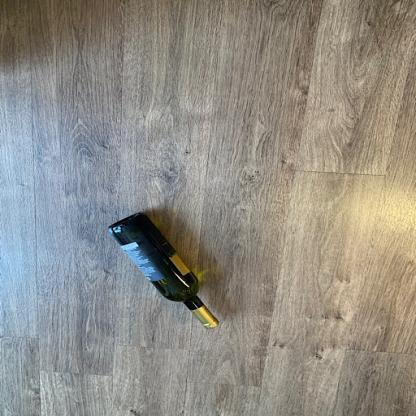trash: (106, 209, 222, 331)
